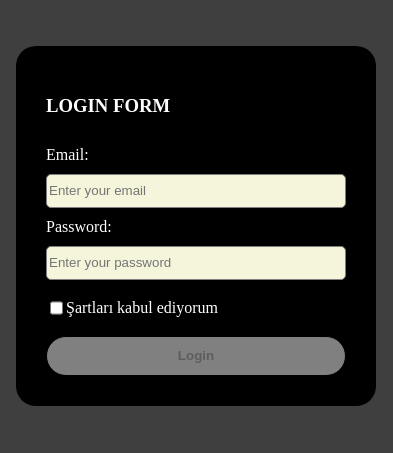
it: Login formu testleri › Geçersiz email testi
In the field with test id "emailInput": (196, 191) [46,174,346,208], type "testexample.com"
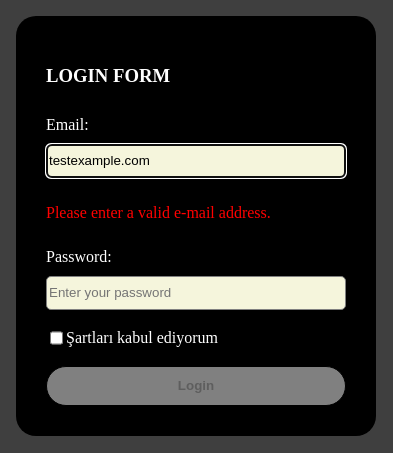
Expected: the button with test id "submitBtn" is disabled, [46,366,346,406]
Now the text with test id "emailError" reads "Please enter a valid e-mail address.", box [46,204,271,221]
